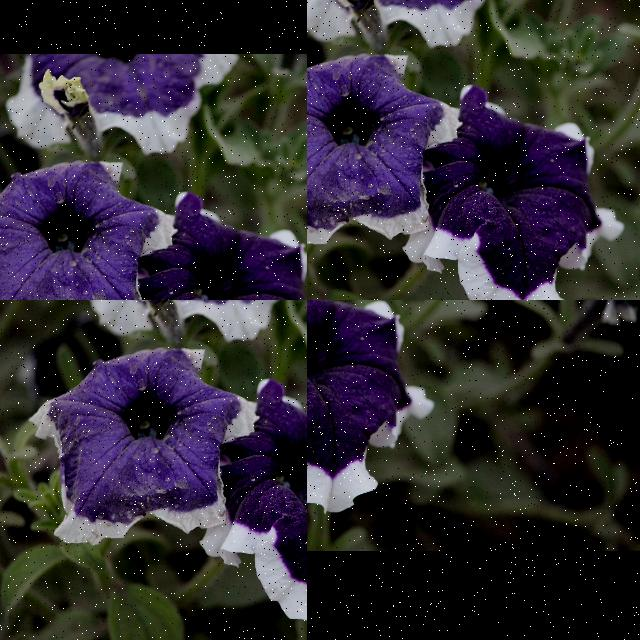flower: (42, 301, 58, 319), (307, 8, 317, 30), (26, 126, 40, 138), (16, 84, 26, 98), (20, 300, 35, 309), (0, 179, 14, 186), (4, 122, 14, 130)
